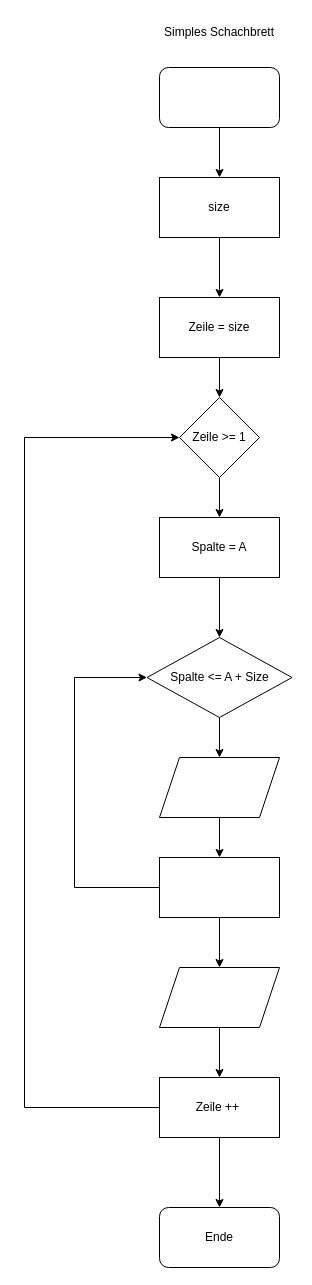
The diagram is 312 pixels wide and 1285 high, and some of its shapes have lost their labels. Each missing label, with the centre of its shape:
"SpalteZeile ": pixel 219 787
Spalte++: pixel 219 887
Start: pixel 219 97
{Zeilenubruch}: pixel 219 997
